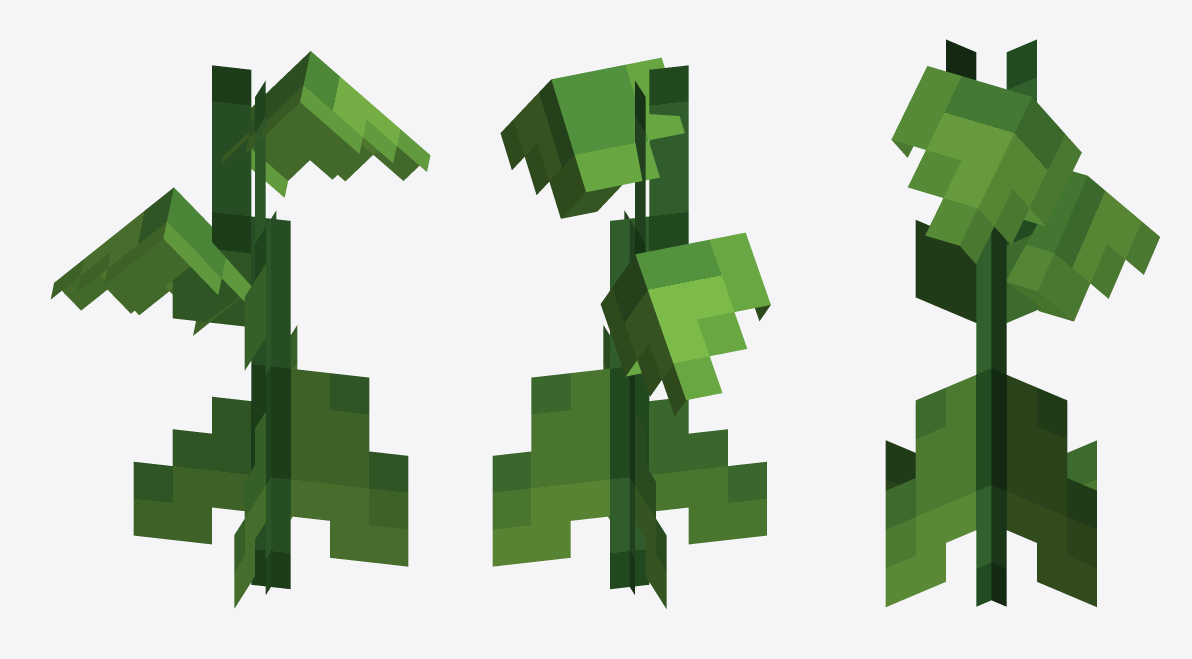
Rendered from corn-stage2.gltf.
3 views of the same model, side by side, from view 1: azimuth 30°, elevation 25°; view 2: azimuth 150°, elevation 25°; view 3: azimuth 270°, elevation 25° (orthographic). The views are drawn at different scales.
Parts seen in each view (by area): view 1: cube (×4); view 2: cube (×4); view 3: cube (×4).
Part boxes in pixels (x1,y1,x2,y2): cube (×4): (50, 51, 430, 608); cube (×4): (492, 57, 770, 608); cube (×4): (885, 39, 1159, 606).
Size of the model in its own units: 0.6813 by 0.875 by 0.499.
1 material, 1 textured.
